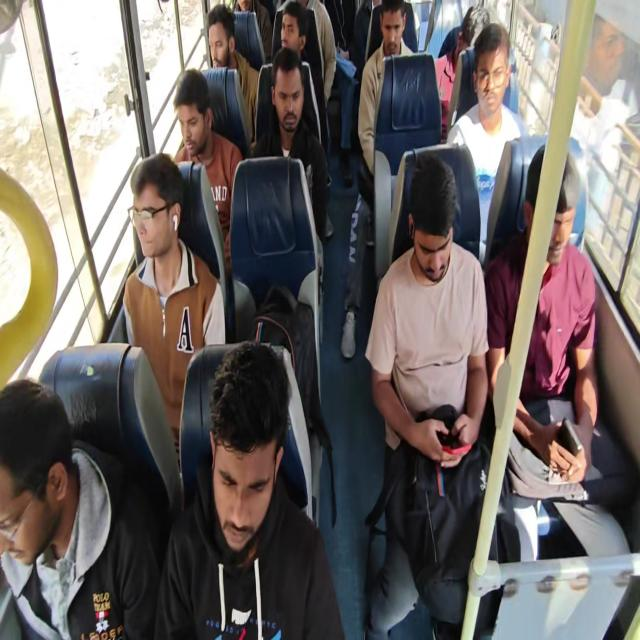person: (0, 355, 118, 568), (192, 366, 294, 612), (513, 121, 590, 276), (410, 150, 470, 291), (130, 146, 184, 255), (169, 64, 217, 170), (260, 47, 305, 150), (437, 4, 495, 71), (195, 5, 247, 71), (470, 37, 510, 117), (373, 0, 418, 59), (278, 0, 342, 30), (277, 5, 310, 61), (361, 3, 383, 41), (234, 0, 262, 21)
